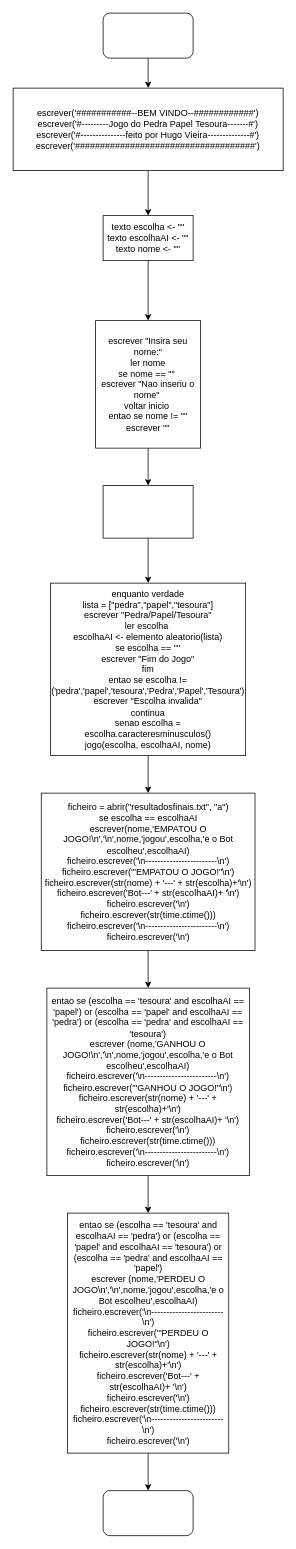
The diagram is 296 pixels wide and 1549 high, and some of its shapes have lost their labels. Here are the shapes that lost their labels. From the top down, the box of each, then its label:
(102, 12, 193, 58): Inicio
(102, 485, 193, 538): escrever "Se Pretender Sair Deia ENTER" escrever ""
(102, 1490, 193, 1536): Fim
